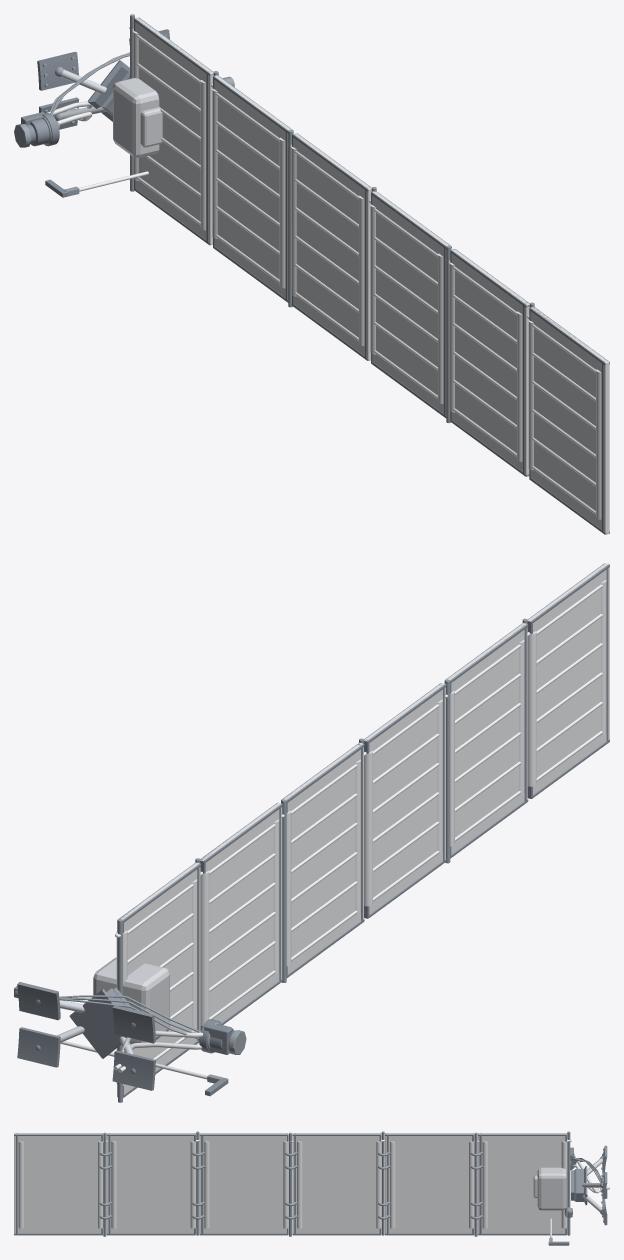
The model's file is radiator-standard.glb.
The picture shows the model from 3 angles, top to bottom: view 1: azimuth 30°, elevation 25°; view 2: azimuth 150°, elevation 25°; view 3: azimuth 270°, elevation 25°; orthographic projection. The views are drawn at different scales.
Parts seen in each view (by area): view 1: panel:5, panel:2, panel:4, panel:1, panel:3, panel:0, evi_cover, radiator_headers:1, radiator_headers:4, radiator_headers:5, radiator_headers:3, radiator_headers:2 (+18 smaller); view 2: panel:3, panel:5, panel:1, panel:4, panel:2, panel:0, evi_cover, radiator_headers:1, radiator_headers:5, radiator_headers:3, mount_pedestal, radiator_headers:2 (+22 smaller); view 3: panel:3, panel:4, panel:2, panel:5, panel:1, panel:0, evi_cover, radiator_headers:4, radiator_headers:3, radiator_headers:1, radiator_headers:2, radiator_headers:5 (+14 smaller).
Boxes of the visible parts, bbox=[...] form: panel:5: bbox=[530, 306, 609, 534]; panel:2: bbox=[293, 133, 371, 360]; panel:4: bbox=[452, 249, 529, 476]; panel:1: bbox=[214, 75, 291, 299]; panel:3: bbox=[372, 191, 449, 415]; panel:0: bbox=[135, 17, 213, 245]; evi_cover: bbox=[113, 78, 159, 157]; radiator_headers:1: bbox=[212, 89, 285, 288]; radiator_headers:4: bbox=[449, 262, 522, 461]; radiator_headers:5: bbox=[528, 320, 601, 519]; radiator_headers:3: bbox=[370, 204, 443, 403]; radiator_headers:2: bbox=[291, 146, 364, 346]; panel:3: bbox=[364, 683, 445, 918]; panel:5: bbox=[527, 563, 609, 798]; panel:1: bbox=[200, 802, 282, 1022]; panel:4: bbox=[447, 623, 527, 854]; panel:2: bbox=[283, 743, 363, 974]; panel:0: bbox=[120, 862, 200, 1094]; evi_cover: bbox=[93, 957, 169, 1043]; radiator_headers:1: bbox=[200, 819, 279, 1026]; radiator_headers:5: bbox=[527, 580, 606, 786]; radiator_headers:3: bbox=[364, 699, 442, 906]; mount_pedestal: bbox=[69, 987, 133, 1058]; radiator_headers:2: bbox=[286, 759, 360, 966]; panel:3: bbox=[199, 1133, 288, 1233]; panel:4: bbox=[106, 1133, 195, 1233]; panel:2: bbox=[292, 1133, 381, 1233]; panel:5: bbox=[14, 1133, 102, 1233]; panel:1: bbox=[385, 1133, 474, 1233]; panel:0: bbox=[478, 1133, 566, 1233]; evi_cover: bbox=[537, 1167, 566, 1210]; radiator_headers:4: bbox=[111, 1141, 196, 1228]; radiator_headers:3: bbox=[204, 1141, 288, 1228]; radiator_headers:1: bbox=[390, 1141, 474, 1228]; radiator_headers:2: bbox=[297, 1141, 381, 1228]; radiator_headers:5: bbox=[18, 1141, 103, 1228].
Size of the model in its own units: 3.96 by 3.1 by 16.25.
